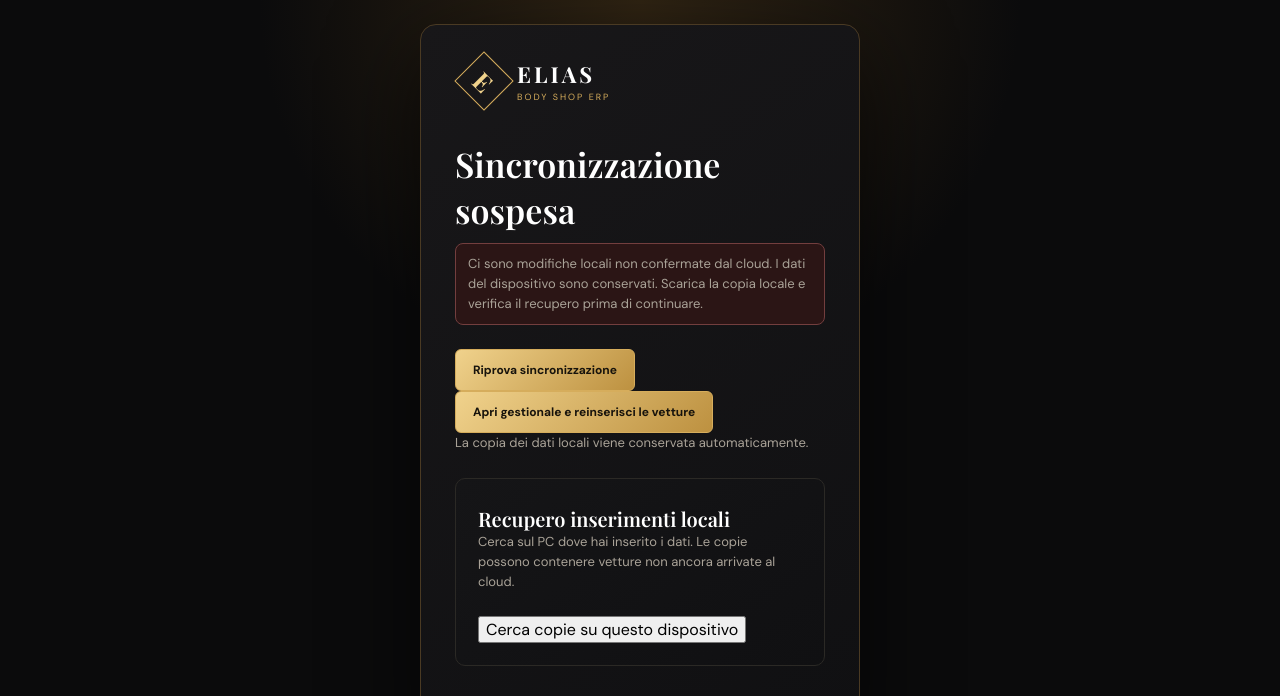
Test: avvio e salvataggio cloud › apre il gestionale per il reinserimento manuale e conserva automaticamente i dati locali in una copia
Check: the message is shown, box [455,243,825,325]
Step 1. Click the button "Apri gestionale e reinserisci le vetture" → x=584, y=412, box [455,391,713,433]
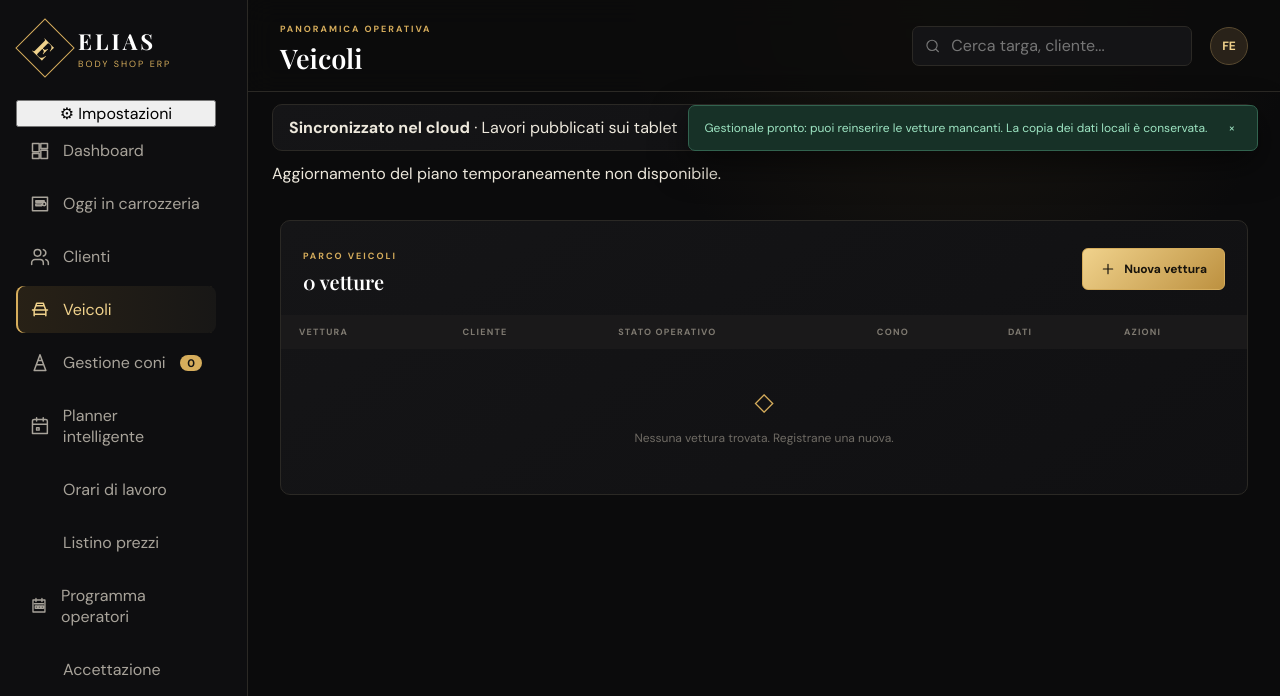
Check: the text "Gestionale pronto: puoi reinserire" is shown, box [704,120,1207,136]
Check: the button "Nuova vettura" is shown, box [1082,248,1225,290]
